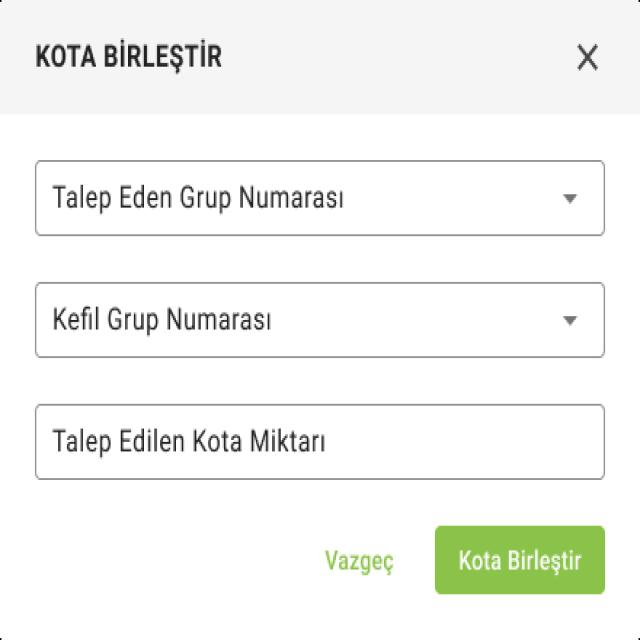QLabel: (30, 35, 235, 79), (452, 540, 586, 580), (320, 540, 406, 580)
VBtn: (433, 523, 607, 597), (299, 523, 423, 596)
VCombobox: (35, 160, 605, 238), (35, 282, 605, 359)
VDialog: (0, 0, 640, 640)
VIcon: (575, 41, 600, 72)
VTextField: (35, 403, 605, 481)
